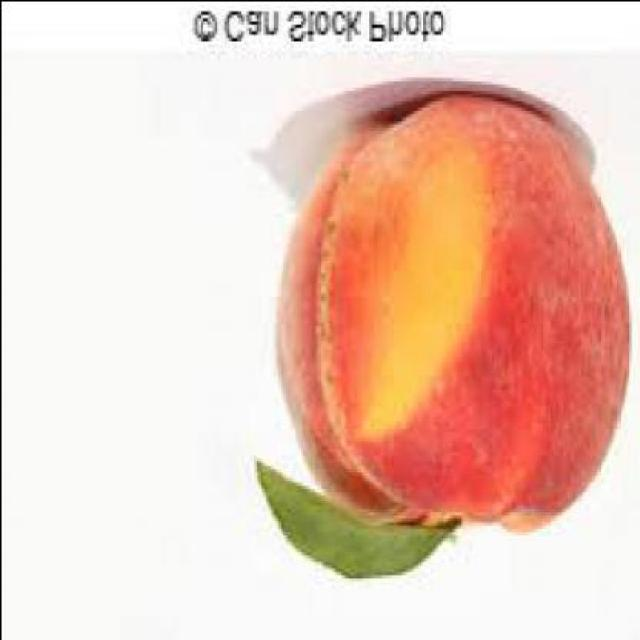BIODEGRADABLE: (278, 88, 629, 526), (258, 461, 459, 578)
